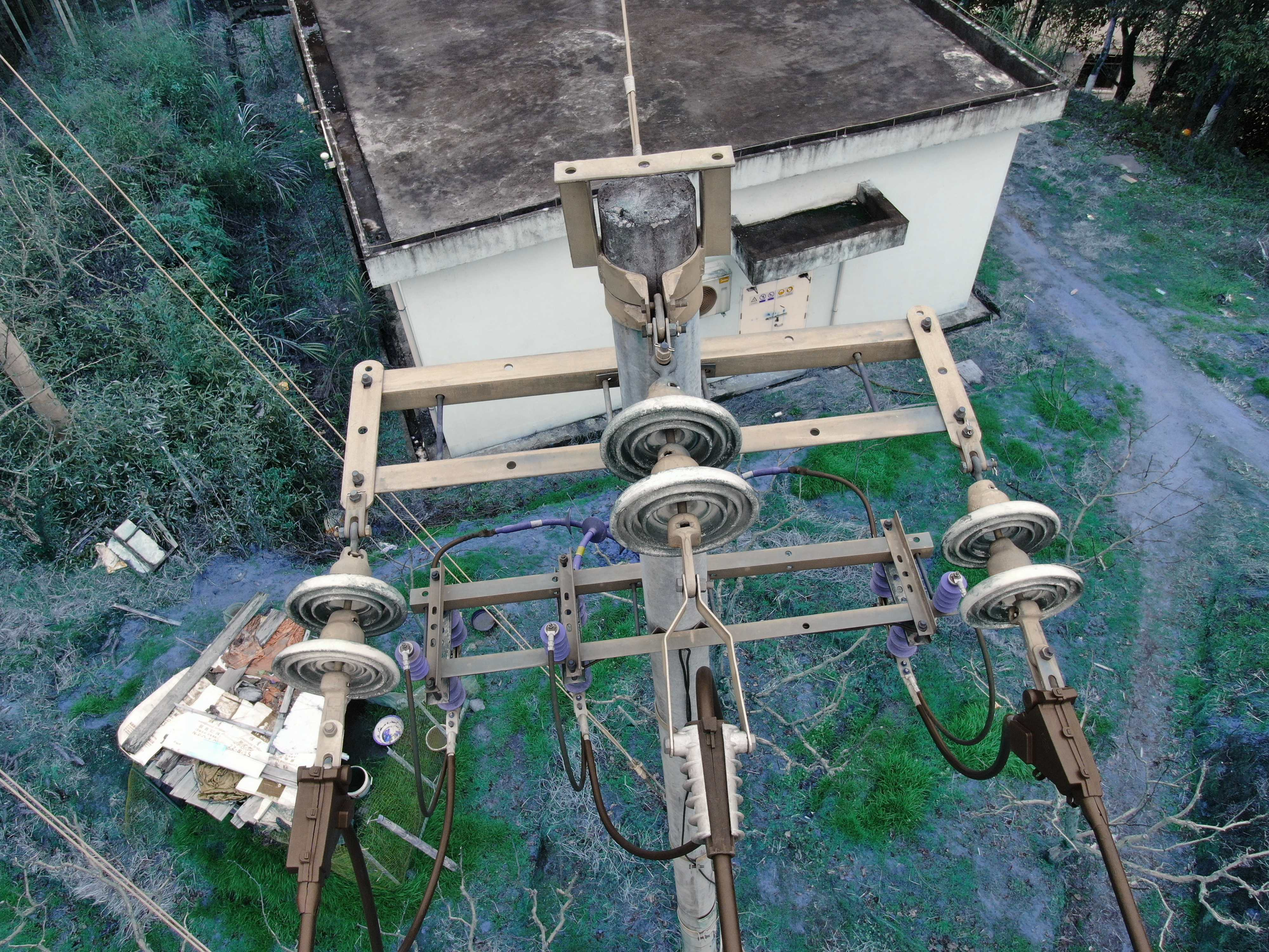severe_soiling_no_discharge_whole: (598, 372, 757, 561), (937, 475, 1089, 632), (268, 546, 410, 704)
